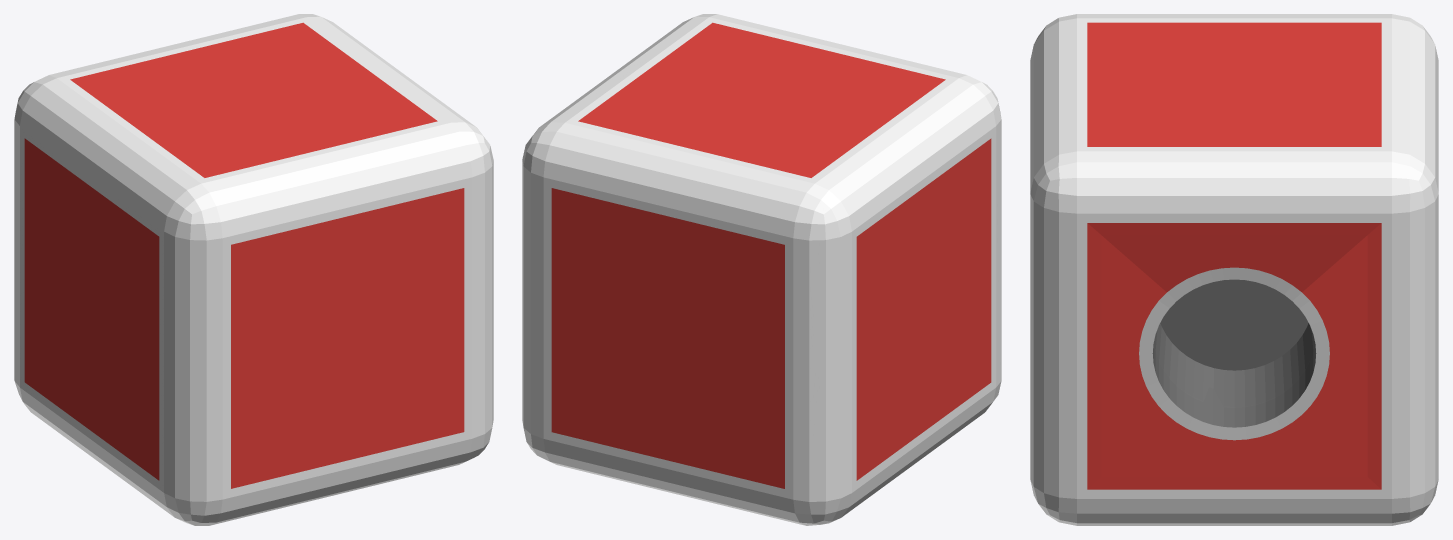
File: DrillSlot (1).fbx
3 views of the same model, side by side, from view 1: azimuth 30°, elevation 25°; view 2: azimuth 150°, elevation 25°; view 3: azimuth 270°, elevation 25° (orthographic). The views are drawn at different scales.
Visible parts, largest first — view 1: DrillSlot; view 2: DrillSlot; view 3: DrillSlot.
Boxes of the visible parts, <box> form: DrillSlot: <box>14,14,493,525</box>; DrillSlot: <box>522,14,1001,525</box>; DrillSlot: <box>1030,14,1438,525</box>.
Bounding box in the file's own units: 2 × 2 × 2.
